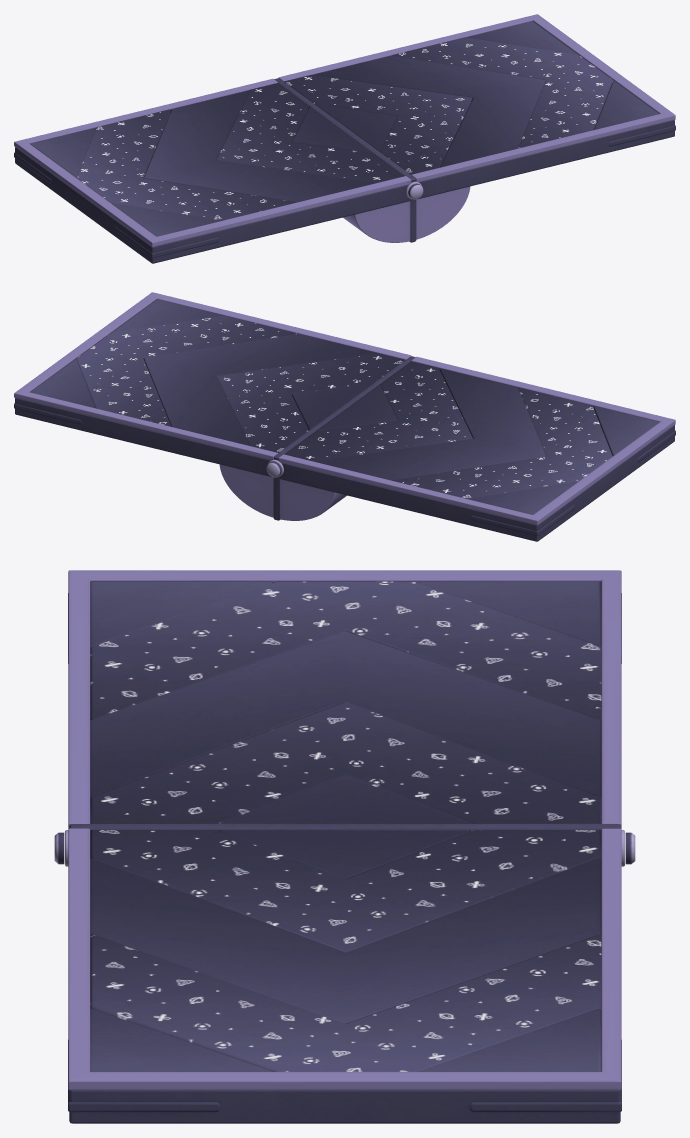
File: BigShatsStage.fbx
The picture shows the model from 3 angles, top to bottom: view 1: azimuth 30°, elevation 25°; view 2: azimuth 150°, elevation 25°; view 3: azimuth 270°, elevation 25°; orthographic projection. The views are drawn at different scales.
Visible parts, largest first — view 1: ENV_S04_FruitPunch_Seesaw_MO_0; view 2: ENV_S04_FruitPunch_Seesaw_MO_0; view 3: ENV_S04_FruitPunch_Seesaw_MO_0.
Part boxes in pixels (bbox=[...]): ENV_S04_FruitPunch_Seesaw_MO_0: bbox=[14, 14, 675, 263]; ENV_S04_FruitPunch_Seesaw_MO_0: bbox=[14, 292, 675, 541]; ENV_S04_FruitPunch_Seesaw_MO_0: bbox=[54, 570, 635, 1123].
Bounding box in the file's own units: 117 × 13.65 × 56.13.
